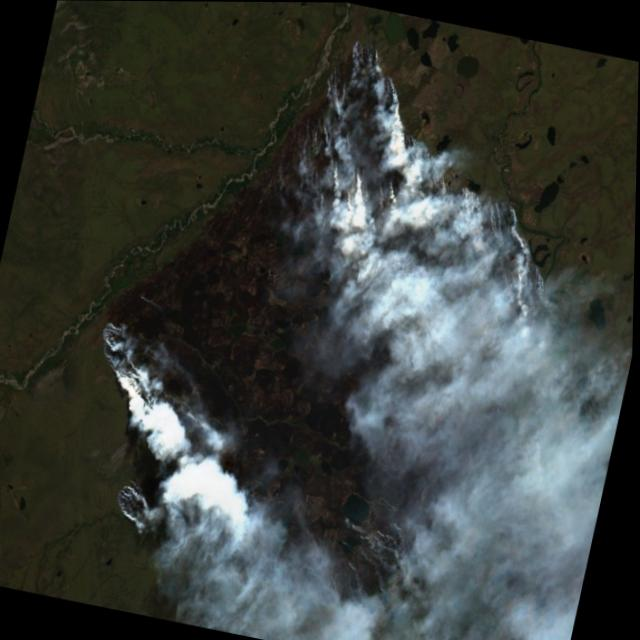fire: (269, 21, 599, 322), (50, 311, 200, 537)
